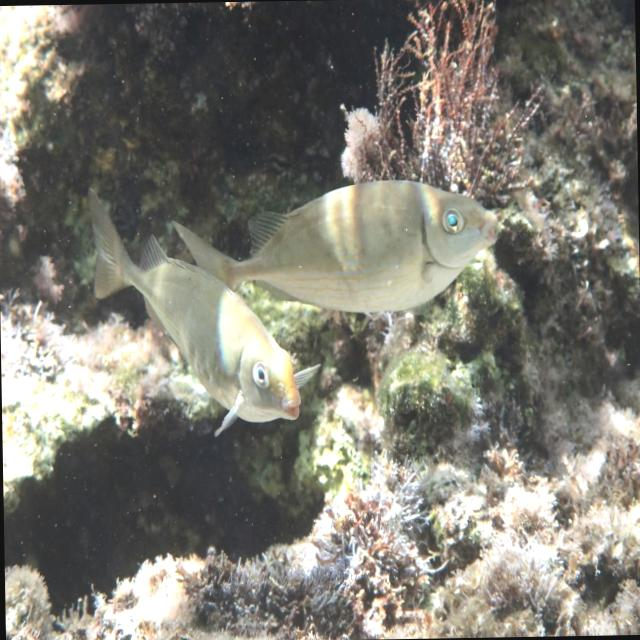Sokar Baligi: (59, 170, 326, 442)
